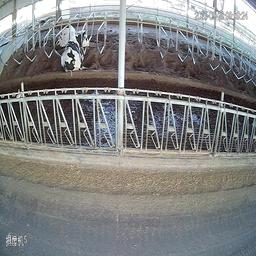cow: (60, 31, 91, 73), (58, 24, 76, 47)
